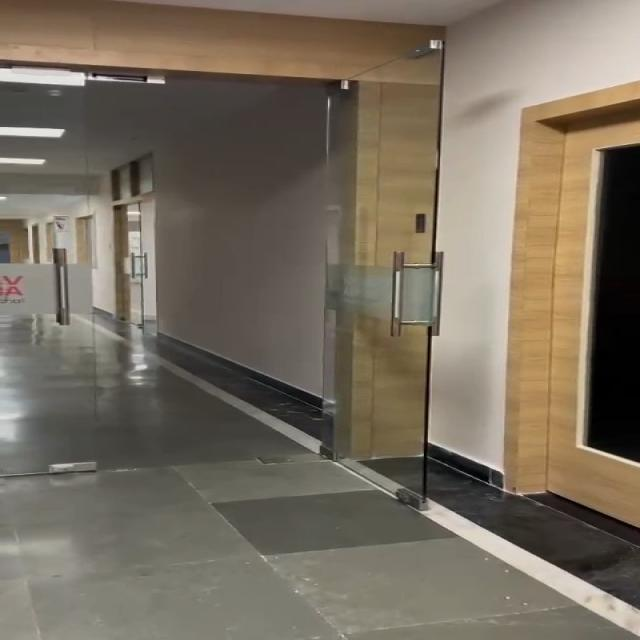door: (16, 6, 452, 478), (528, 103, 640, 501)
floor: (59, 495, 640, 640)
